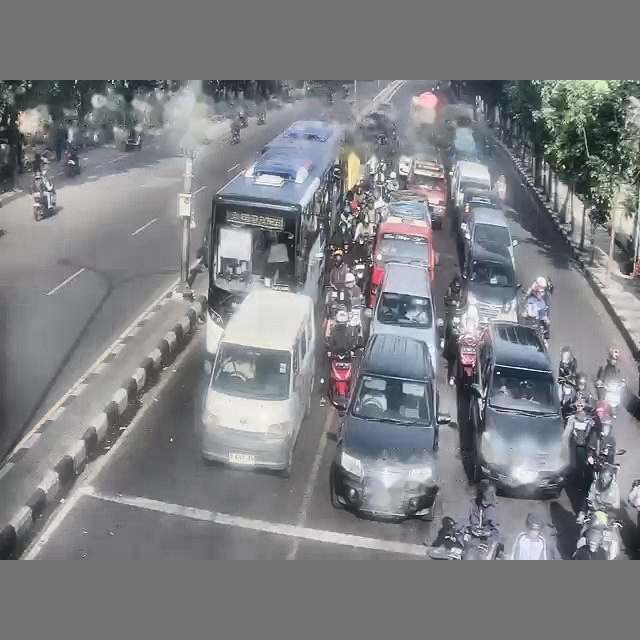Bis: (206, 145, 342, 356)
Mobil: (330, 334, 450, 519), (469, 322, 569, 495), (462, 243, 520, 324), (461, 207, 517, 267)
Motor: (427, 518, 503, 559), (573, 509, 621, 559), (456, 331, 477, 388), (32, 172, 55, 220), (65, 151, 79, 177), (230, 126, 239, 144)
